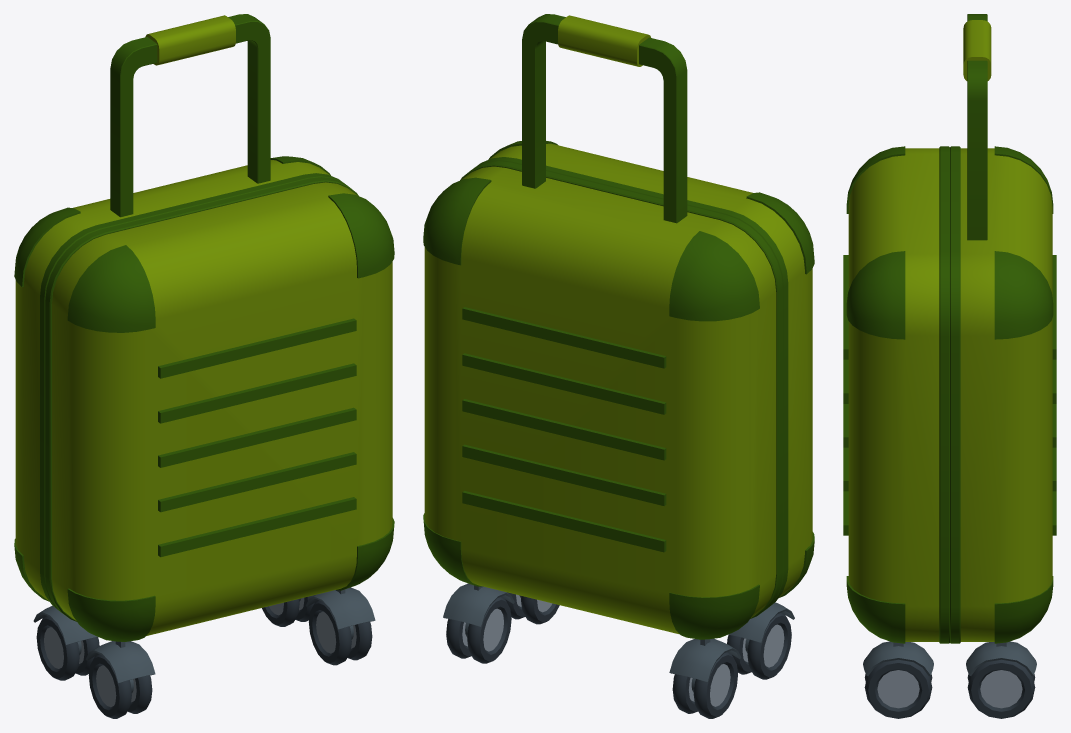
The model's file is Case02B.fbx.
The picture shows the model from 3 angles, left to right: view 1: azimuth 30°, elevation 25°; view 2: azimuth 150°, elevation 25°; view 3: azimuth 270°, elevation 25°; orthographic projection. The views are drawn at different scales.
Visible parts, largest first — view 1: Case02B, Case02BHandle; view 2: Case02B, Case02BHandle; view 3: Case02B, Case02BHandle.
Boxes of the visible parts, x1=… form: Case02B: x1=14, y1=156, x2=394, y2=718; Case02BHandle: x1=110, y1=14, x2=270, y2=217; Case02B: x1=423, y1=141, x2=814, y2=718; Case02BHandle: x1=522, y1=14, x2=687, y2=223; Case02B: x1=843, y1=146, x2=1056, y2=718; Case02BHandle: x1=963, y1=14, x2=991, y2=240.
Size of the model in its own units: 58.32 by 110 by 34.19.
